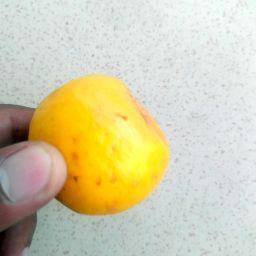Ripe: (31, 75, 169, 214)
